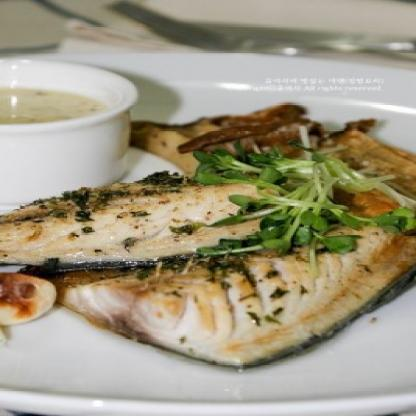Peixe: (0, 97, 416, 364)
